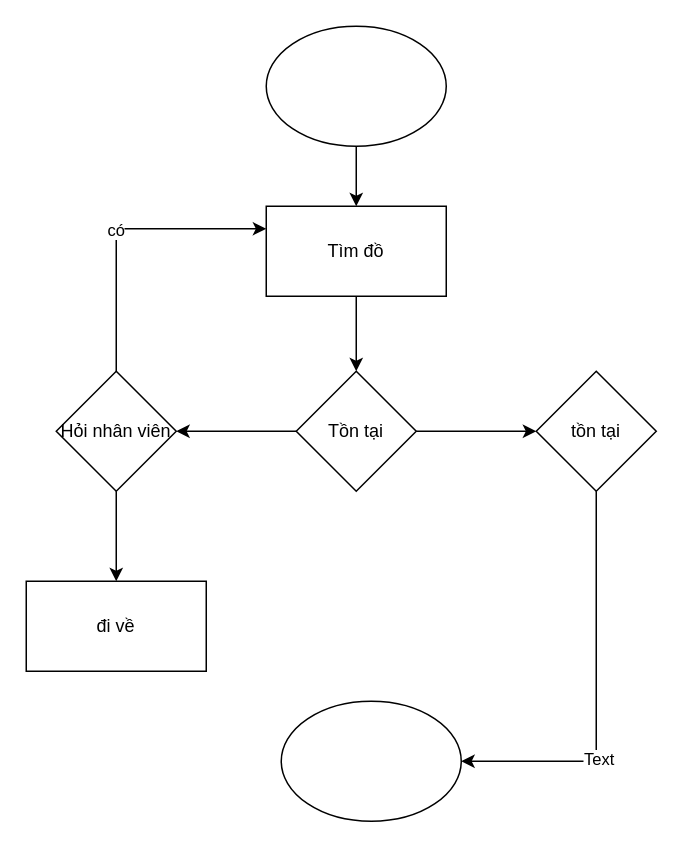
The diagram is 683 pixels wide and 848 high, and some of its shapes have lost their labels. The centre of each missing label's shape, as x and y in pixels:
Bắt đầu: the point at 355,85
Kết thúc: the point at 370,760
